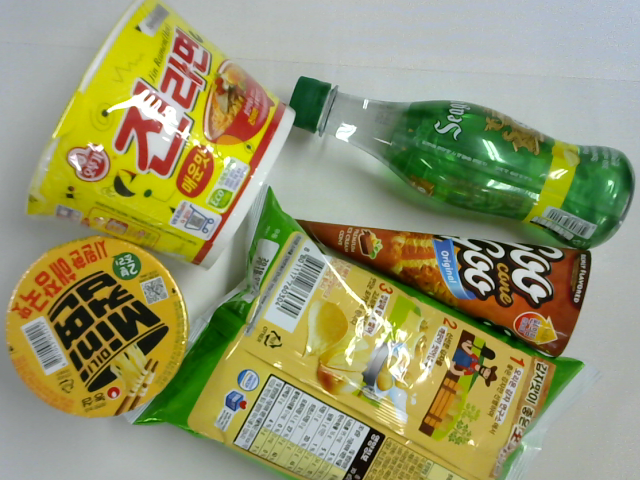GooGoo_Cone_CVS: (280, 214, 593, 355)
Hejangmini: (6, 237, 186, 417)
Jinlamyeon_Hot_Taste_Large_Cup: (24, 1, 297, 263)
Pocachip_Onion: (123, 185, 590, 480)
Seagram_Lemon_Carbonated_Water: (286, 74, 633, 253)
